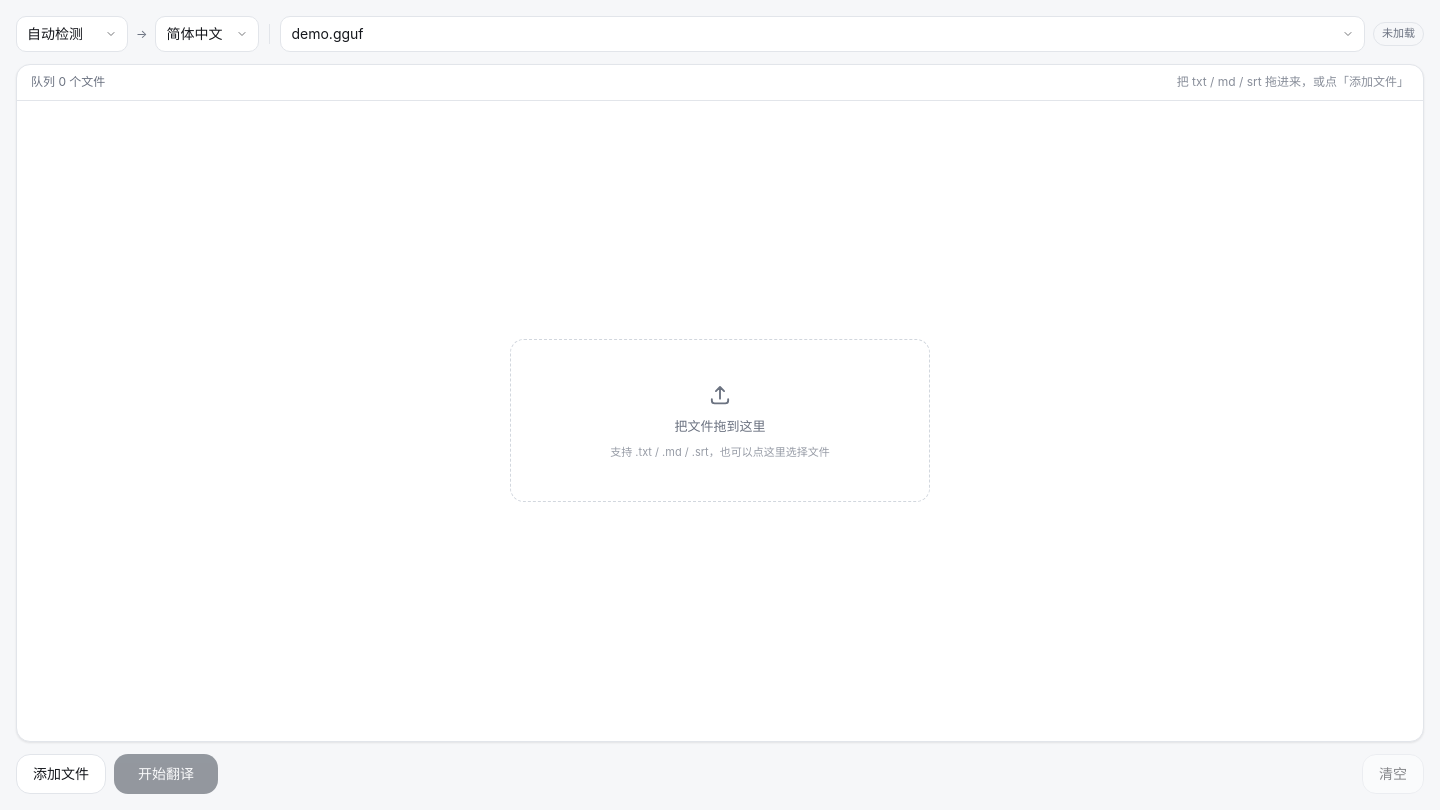
Test: Batch · 断点续传的界面反馈 › 全新任务不显示「续」标记
Click the button "添加文件" at (61, 774), box [16,754,106,794]
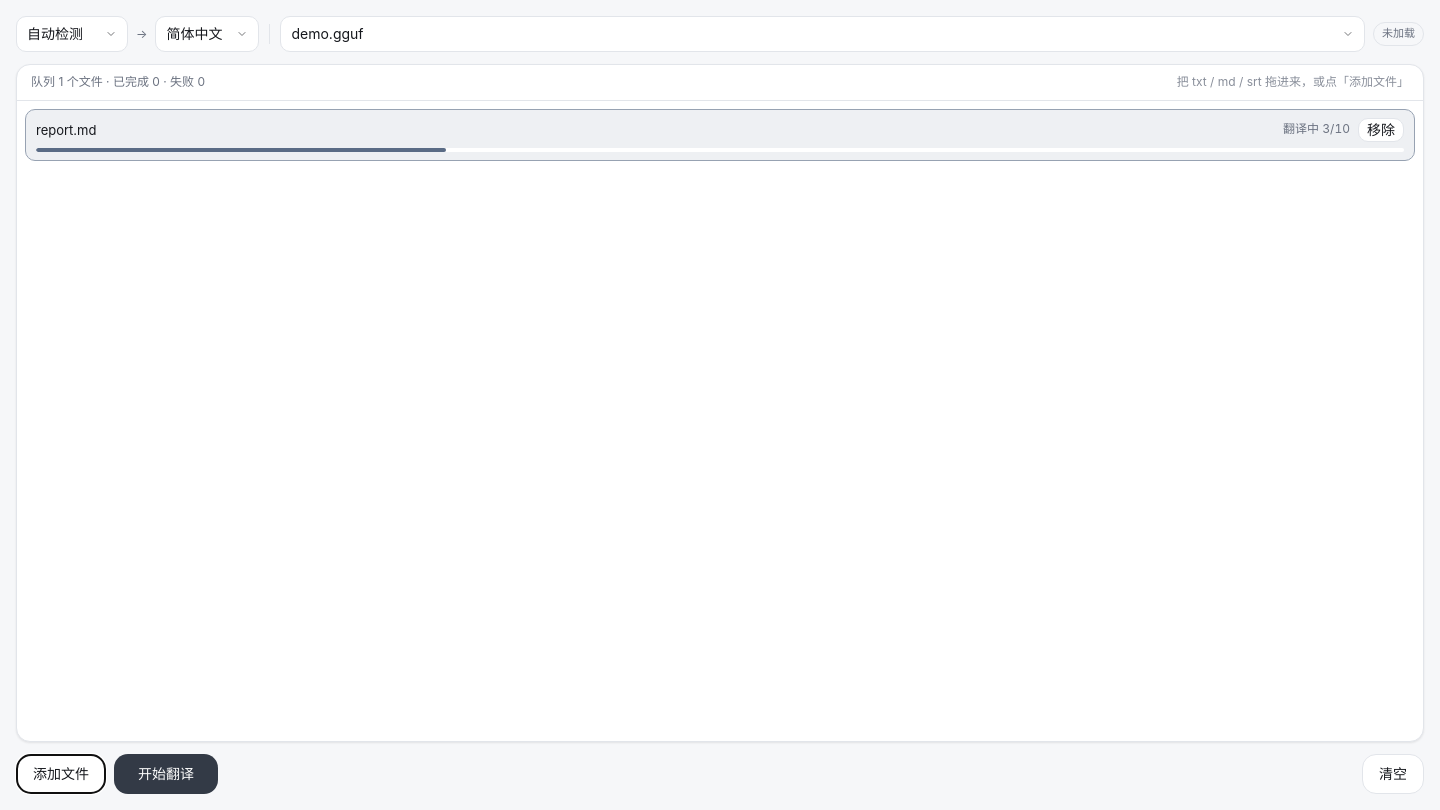
Expected: the text "report.md" is shown, [36,122,96,138]
Expected: the text "翻译中 3/10" is shown, [1283,120,1350,139]
